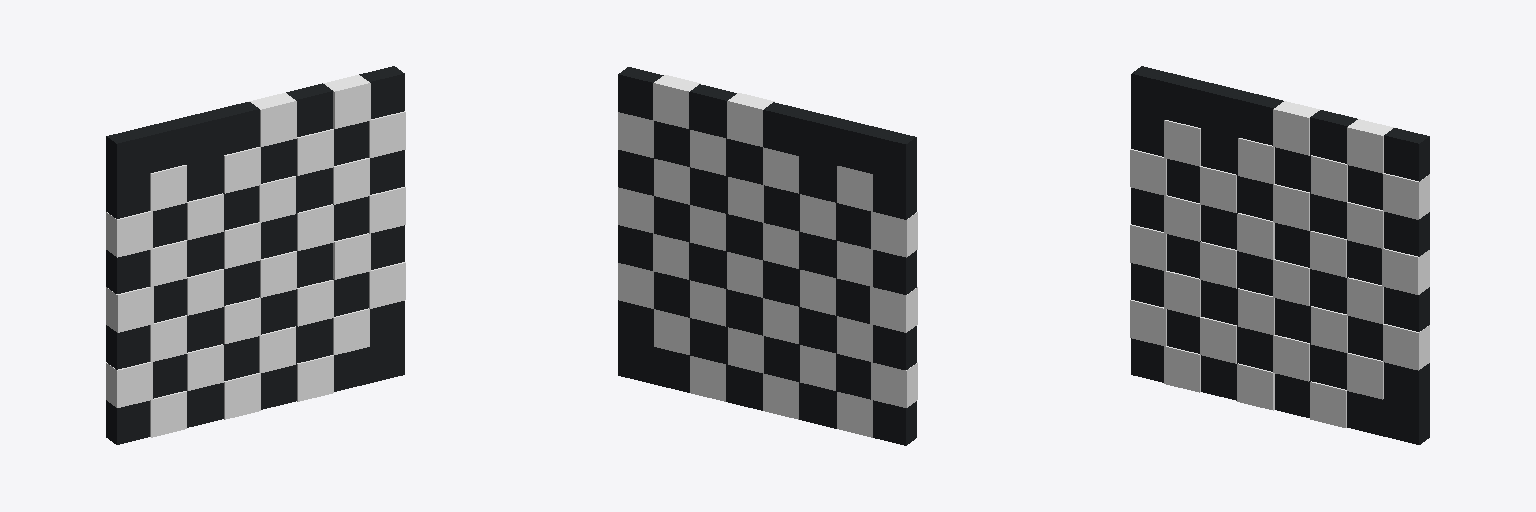
Rendered from tinker 1.obj.
The picture shows the model from 3 angles: view 1: azimuth 30°, elevation 25°; view 2: azimuth 150°, elevation 25°; view 3: azimuth 330°, elevation 25°; orthographic projection.
Visible parts, largest first — view 1: obj_0; view 2: obj_0; view 3: obj_0.
Part boxes in pixels (x1,y1,x2,y2): obj_0: (106, 66, 405, 444); obj_0: (618, 67, 917, 445); obj_0: (1130, 66, 1429, 444).
Size of the model in its own units: 160 by 160 by 11.